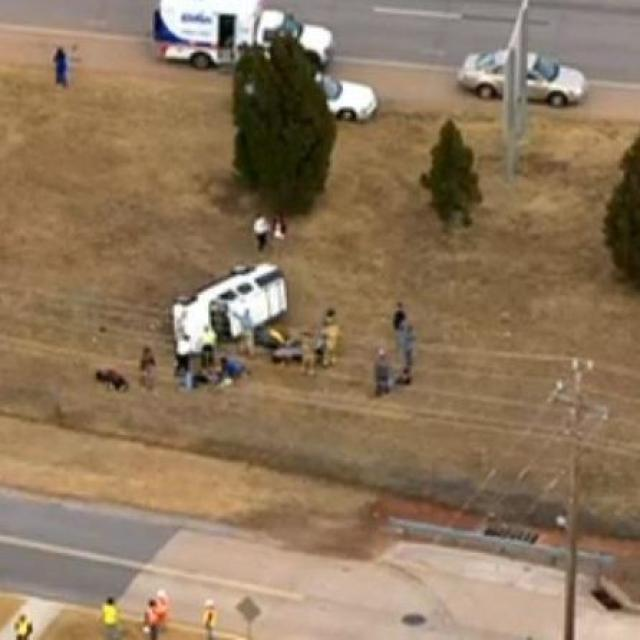traffic_incident: (156, 236, 307, 370)
